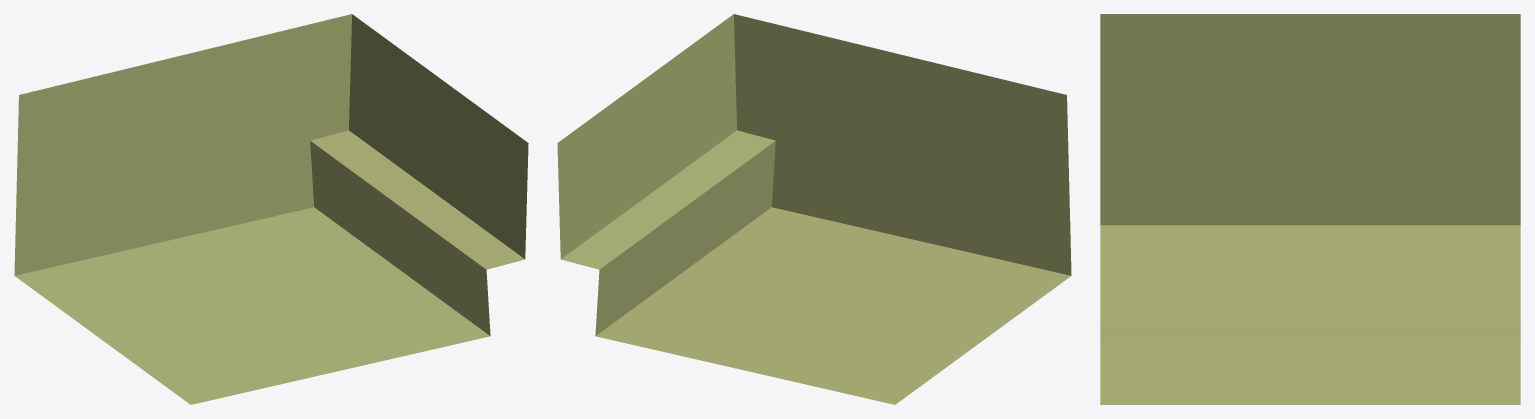
3 views of the same model, side by side, from view 1: azimuth 30°, elevation 25°; view 2: azimuth 150°, elevation 25°; view 3: azimuth 270°, elevation 25° (orthographic). The views are drawn at different scales.
Visible parts, largest first — view 1: 0_1_0_0_1_0_0_2_2_0_1; view 2: 0_1_0_0_1_0_0_2_2_0_1; view 3: 0_1_0_0_1_0_0_2_2_0_1.
Part boxes in pixels (bbox=[...]): 0_1_0_0_1_0_0_2_2_0_1: bbox=[14, 14, 528, 404]; 0_1_0_0_1_0_0_2_2_0_1: bbox=[557, 14, 1071, 404]; 0_1_0_0_1_0_0_2_2_0_1: bbox=[1100, 14, 1520, 404].
Size of the model in its own units: 9.95 by 5.19 by 9.
